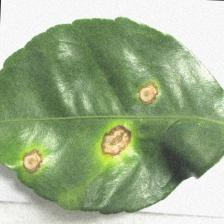canker: (14, 75, 162, 178)
